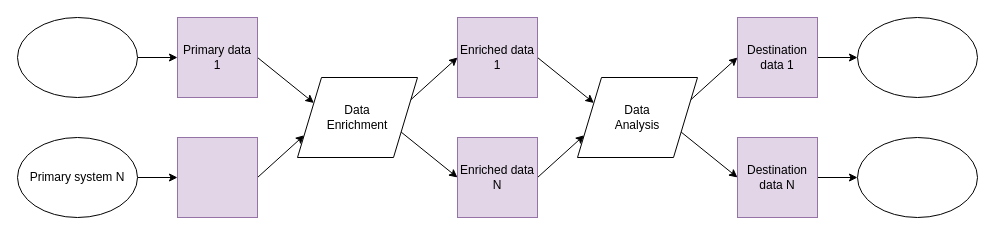
Image size: 995x235. Some labels were removed from this diagram. The shapes that lost their labels are listed below. From the top down, each one's centre as x and y in pixels, then its label:
the point at 77,57: Primary system 1
the point at 917,57: Destination System 1
the point at 217,177: Primary data N
the point at 917,177: Destination System N
